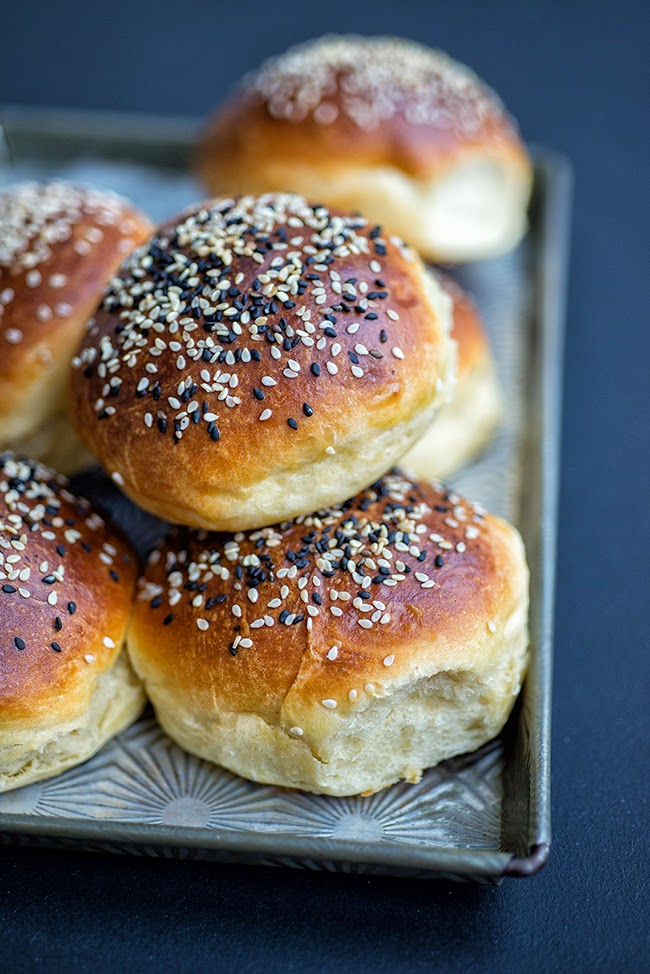hamburger_buns: (100, 432, 535, 806), (90, 184, 453, 518), (201, 45, 554, 235)
